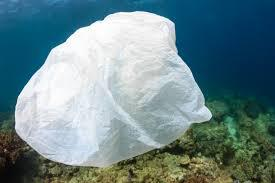Plastic: (12, 8, 217, 168)
